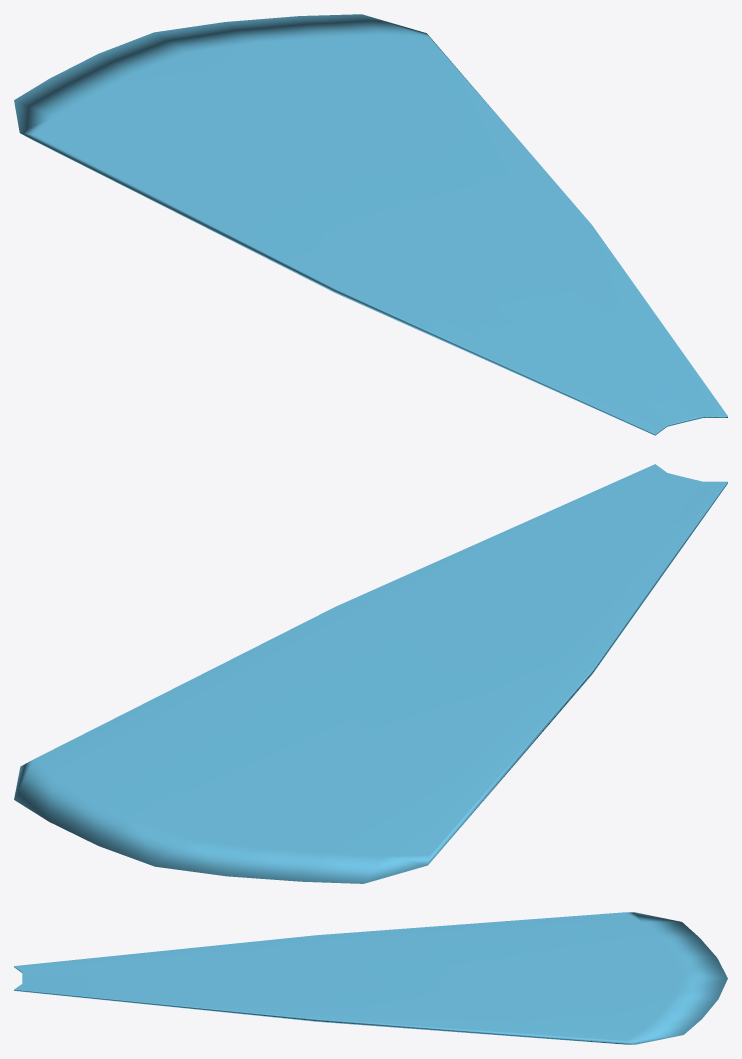
Rendered from Scan.fbx.
The picture shows the model from 3 angles, top to bottom: view 1: azimuth 30°, elevation 25°; view 2: azimuth 150°, elevation 25°; view 3: azimuth 270°, elevation 25°; orthographic projection. The views are drawn at different scales.
Visible parts, largest first — view 1: Cube; view 2: Cube; view 3: Cube.
Boxes of the visible parts, bbox=[...] form: Cube: bbox=[14, 14, 727, 435]; Cube: bbox=[14, 464, 727, 883]; Cube: bbox=[14, 912, 727, 1044].
Size of the model in its own units: 546 by 9.87 by 1246.
